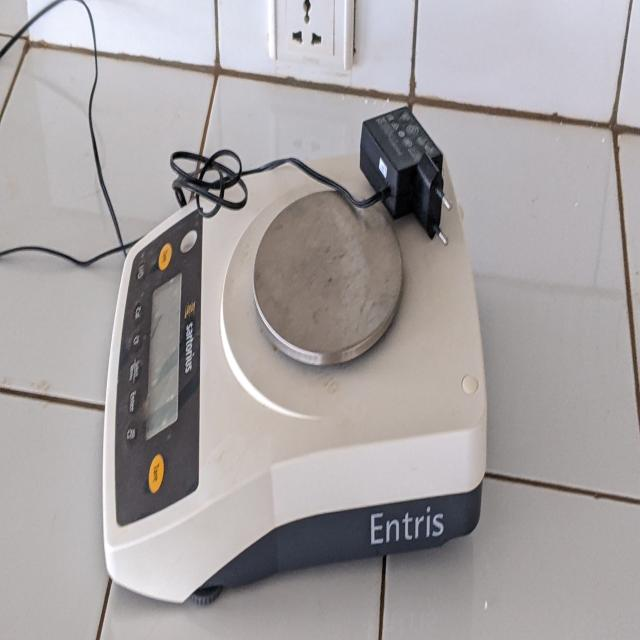Electronic Balance: (106, 117, 506, 604)
